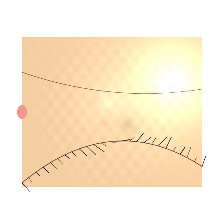hemorrhage_spot: (65, 70, 166, 151)
